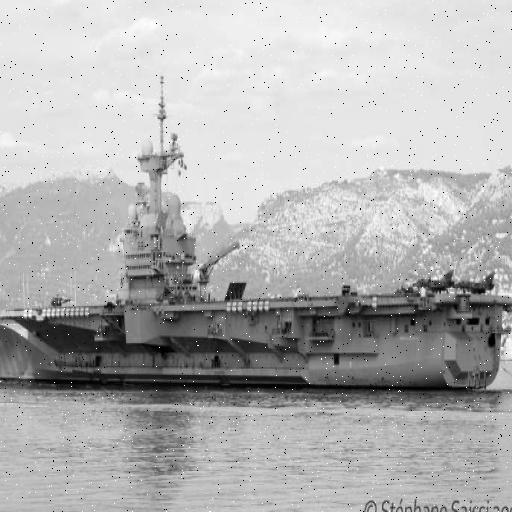Portanaves: (1, 71, 512, 394)
